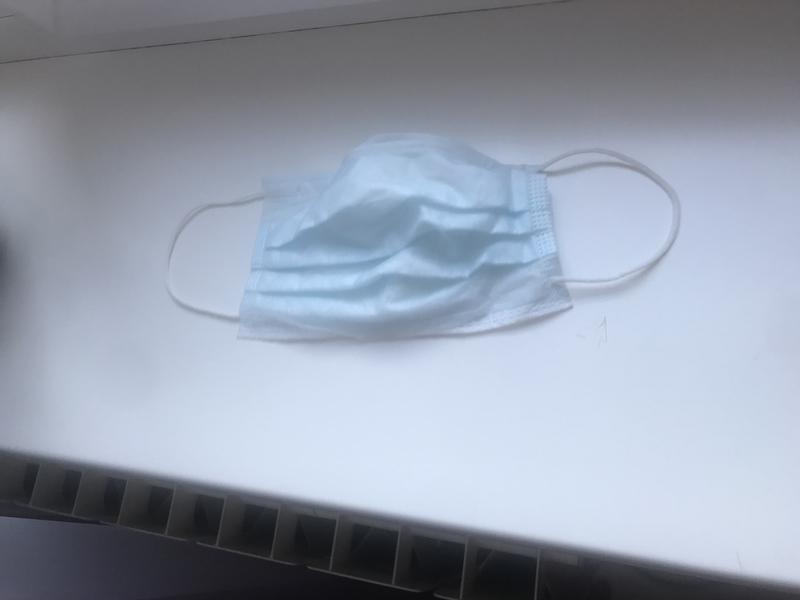medical_mask: (166, 137, 681, 340)
